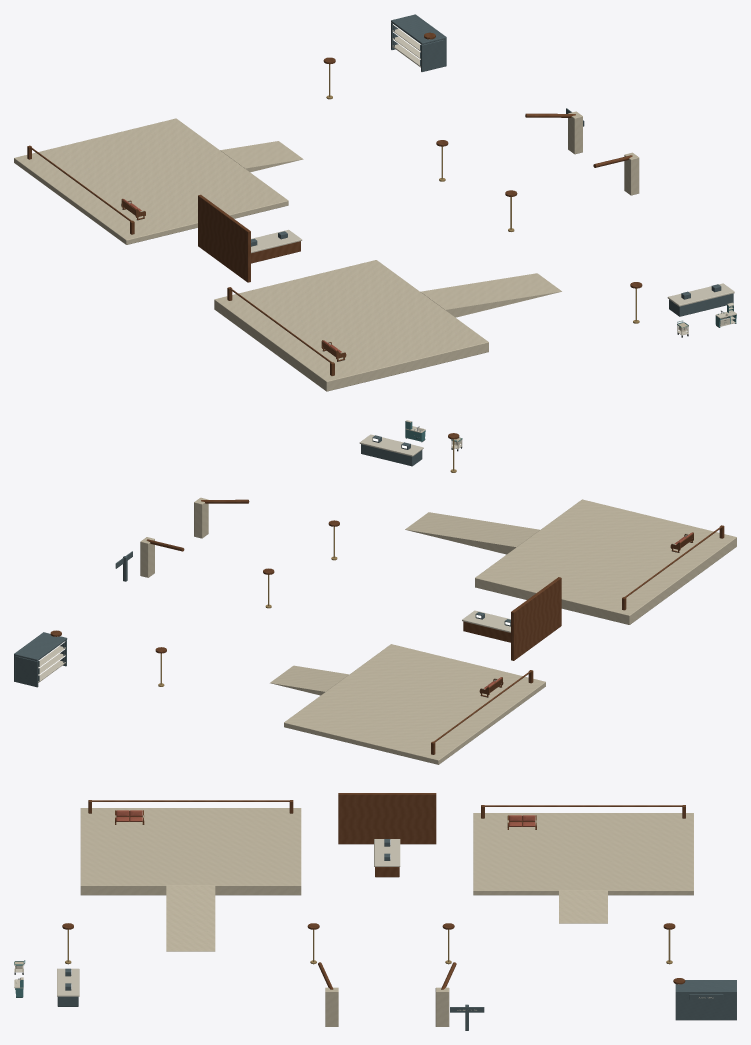
File: SOL_D07_directory_09_source001.glb
The picture shows the model from 3 angles, top to bottom: view 1: azimuth 30°, elevation 25°; view 2: azimuth 150°, elevation 25°; view 3: azimuth 270°, elevation 25°; orthographic projection. The views are drawn at different scales.
Visible parts, largest first — view 1: C_activity_terrace1, C_activity_terrace0, C_activity_ramp1, C_activity_focus_back, C_activity_ramp0, C_care_top, C_activity_store_base, C_care_cheek_10.4, C_activity_store_top, C_threshold_pier1; view 2: C_activity_terrace1, C_activity_terrace0, C_activity_ramp1, C_activity_focus_back, C_activity_ramp0, C_care_top, C_activity_store_base, C_care_cheek_5.6, C_activity_store_top, C_threshold_pier1; view 3: C_activity_terrace1, C_activity_terrace0, C_activity_focus_back, C_activity_ramp1, C_care_back, C_activity_ramp0, C_activity_review_top, C_care_top, C_activity_store_top, C_threshold_pier0, C_threshold_pier1.
Boxes of the visible parts, x1,y1,x2,y2 form: C_activity_terrace1: (214,260,488,391); C_activity_terrace0: (14,118,288,244); C_activity_ramp1: (420,273,561,317); C_activity_focus_back: (198,194,250,282); C_activity_ramp0: (220,141,303,172); C_care_top: (391,15,445,44); C_activity_store_base: (669,293,733,316); C_care_cheek_10.4: (421,39,444,71); C_activity_store_top: (667,283,734,306); C_threshold_pier1: (624,152,639,195); C_activity_terrace1: (475,499,736,624); C_activity_terrace0: (284,644,545,764); C_activity_ramp1: (405,512,539,554); C_activity_focus_back: (511,577,561,660); C_activity_ramp0: (270,665,348,695); C_care_top: (15,632,67,661); C_activity_store_base: (361,444,422,466); C_care_cheek_5.6: (15,656,38,687); C_activity_store_top: (359,434,423,456); C_threshold_pier1: (194,497,208,538); C_activity_terrace1: (80,808,301,895); C_activity_terrace0: (473,813,693,895); C_activity_focus_back: (338,793,436,844); C_activity_ramp1: (166,885,215,951); C_care_back: (675,990,736,1020); C_activity_ramp0: (559,890,607,923); C_activity_review_top: (374,839,400,866); C_care_top: (675,980,736,990); C_activity_store_top: (57,968,79,996); C_threshold_pier0: (435,987,449,1026); C_threshold_pier1: (325,987,338,1026).
Size of the model in its own units: 41.16 by 4.5 by 58.92.
Materials: 25 (24 with a texture image).
